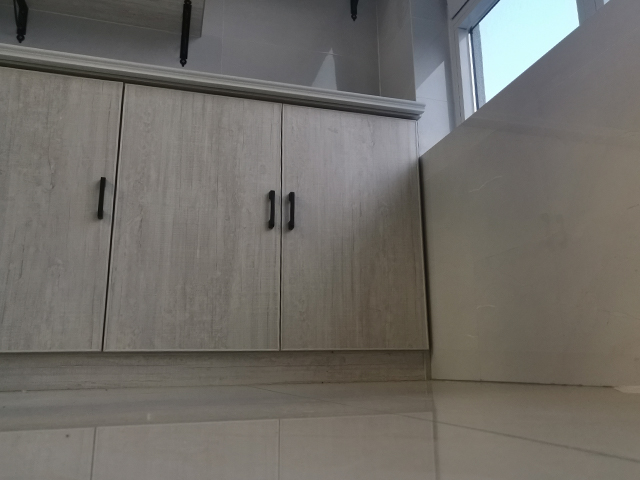cabinet: (1, 43, 434, 395)
